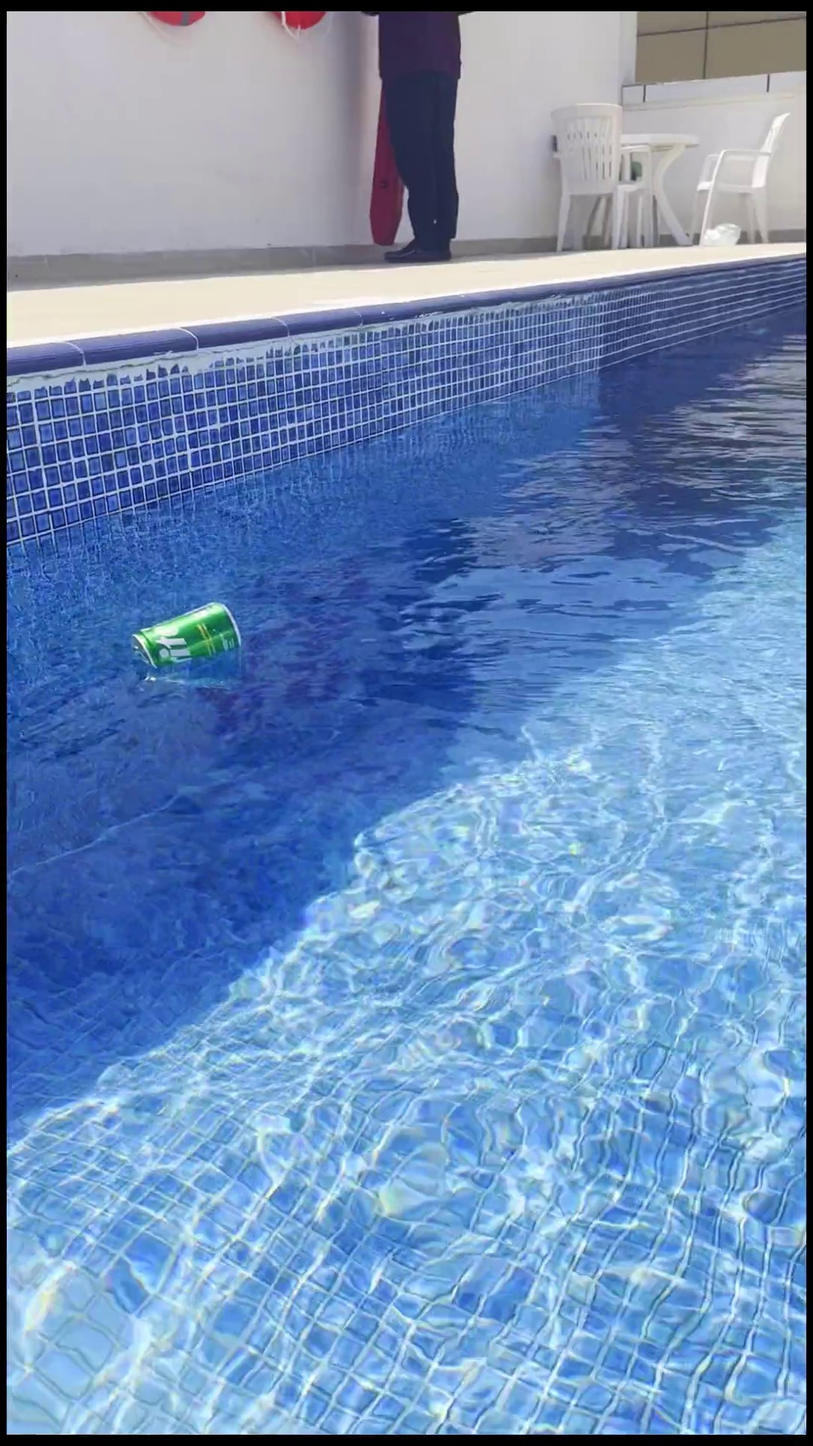debris: (126, 591, 243, 713)
